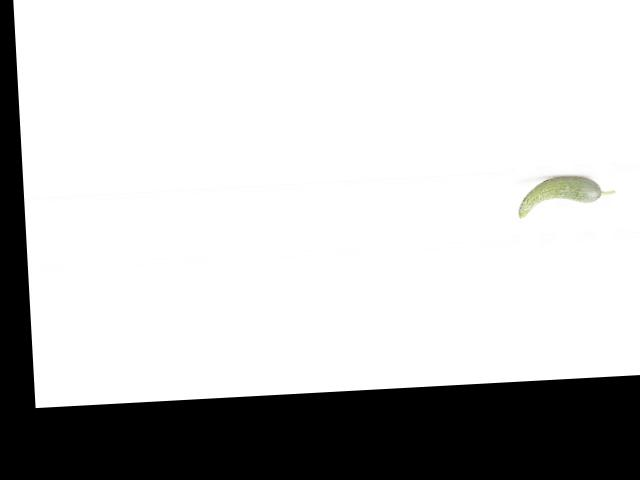cucumber: (517, 173, 616, 217)
